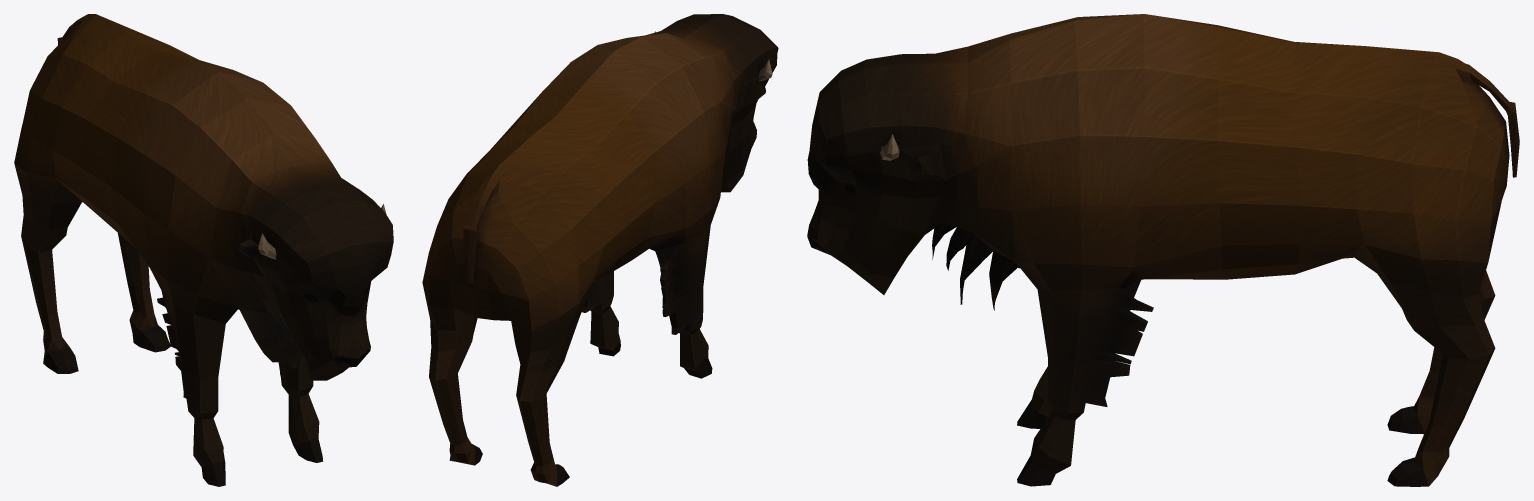
The model's file is bison.glb.
3 renders of one model, left to right at view 1: azimuth 30°, elevation 25°; view 2: azimuth 150°, elevation 25°; view 3: azimuth 270°, elevation 25°, orthographic. The views are drawn at different scales.
Visible parts, largest first — view 1: node-0; view 2: node-0; view 3: node-0.
Boxes of the visible parts, bbox=[...] form: node-0: bbox=[14, 14, 393, 486]; node-0: bbox=[422, 14, 778, 486]; node-0: bbox=[807, 14, 1519, 486].
Size of the model in its own units: 6.33 by 14.12 by 20.77.
1 material, 1 textured.
